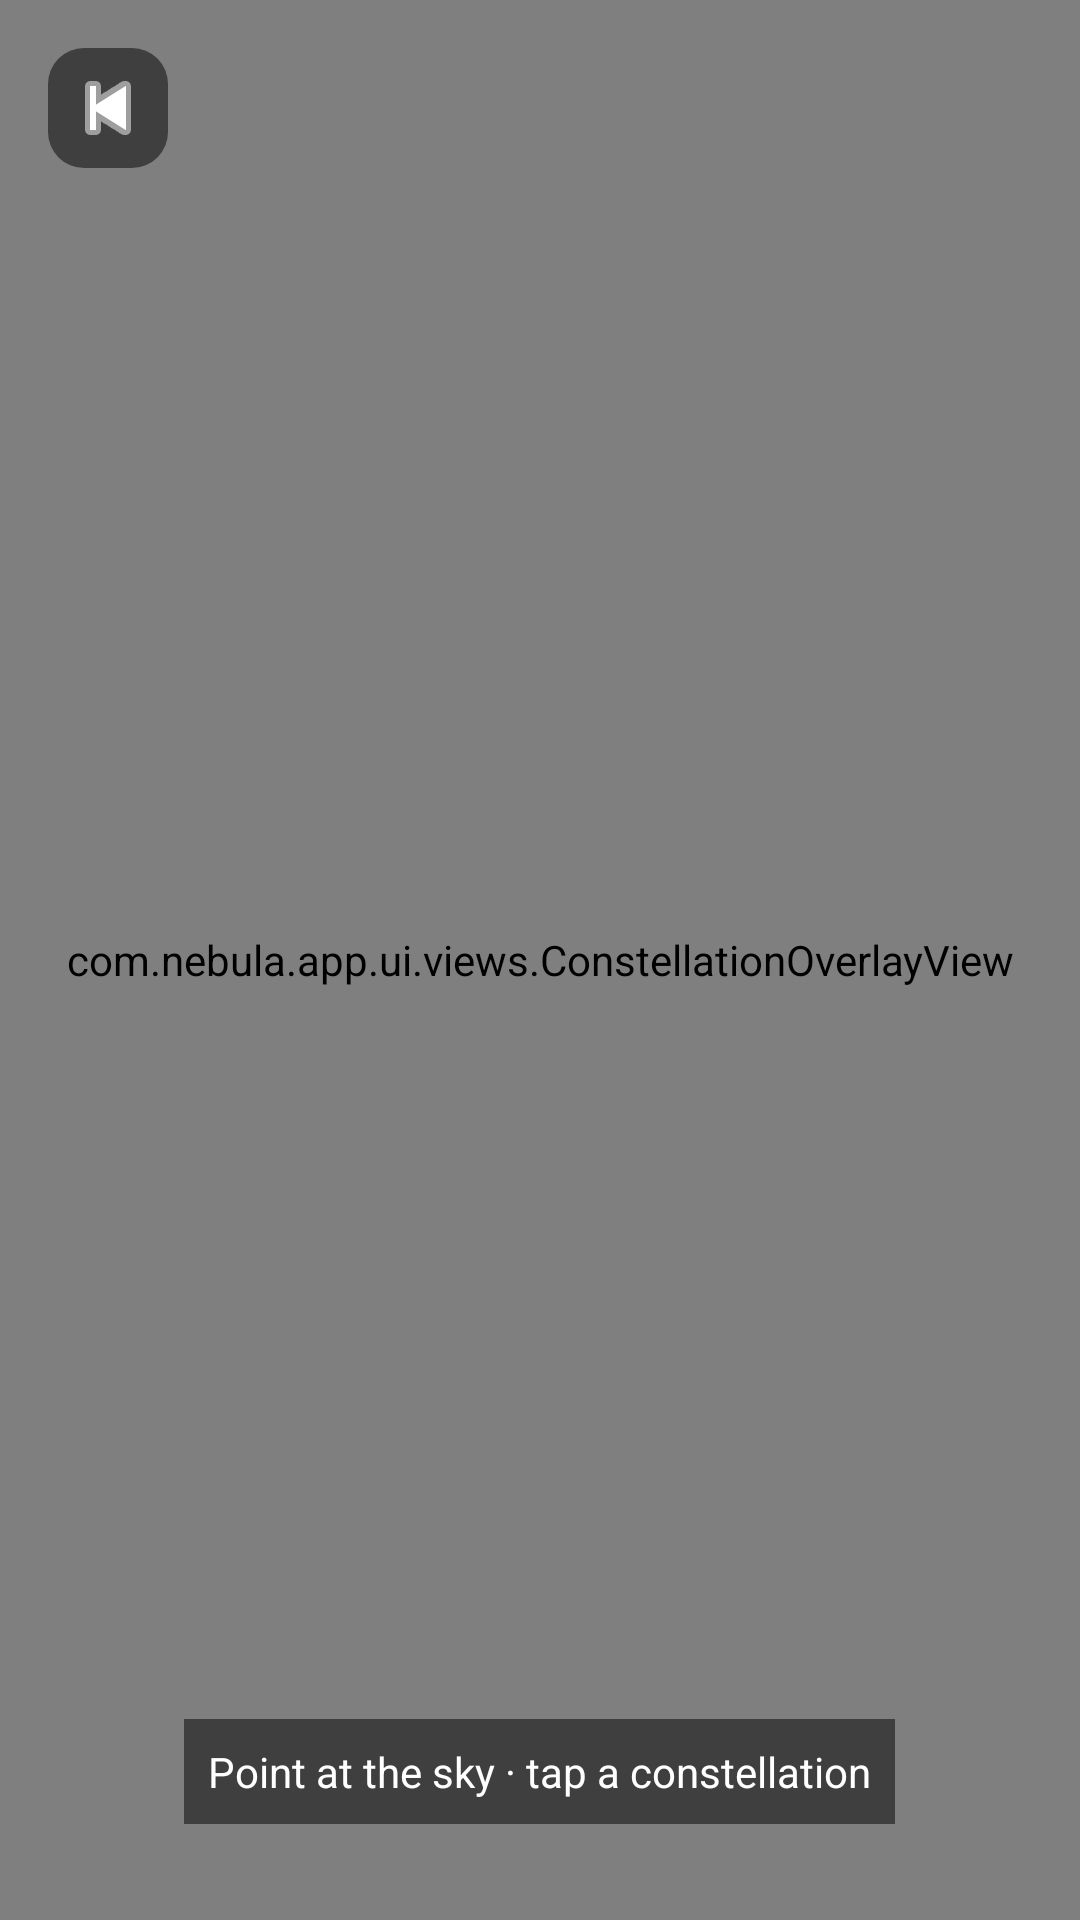

Icons on this 1080*1920 Android screen, each with its box as (x1, y1, x2, y2):
previous: (48, 48, 168, 168)
